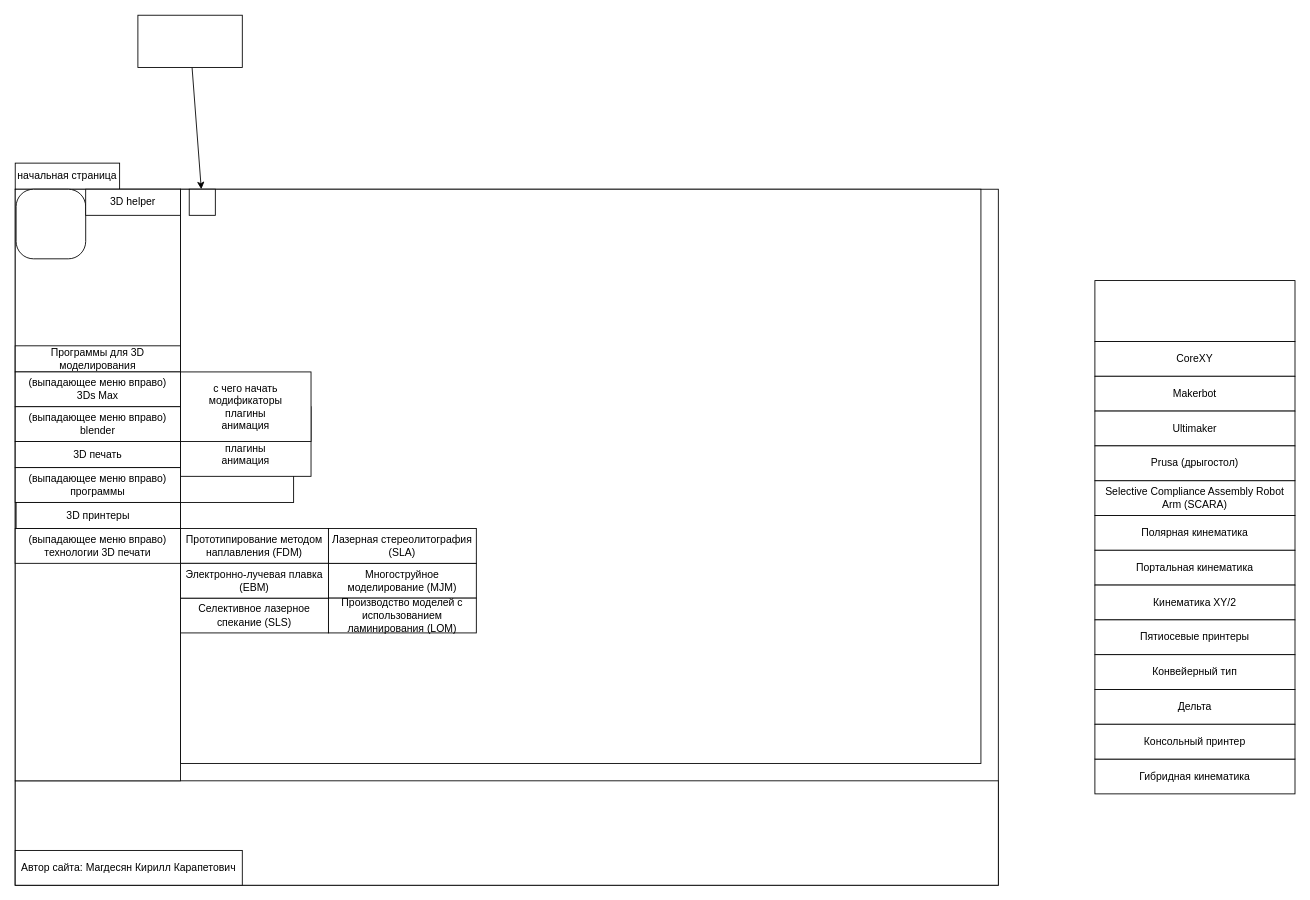
Some shapes in this 1310 by 900 pixel diagram are drawn without their labels. The centre of each missing label's shape, as x and y in pixels:
(иконка): (x=50, y=223)
(кнопка раскрытия sidebar): (x=189, y=40)
cura autodesk prusa slicer: (x=237, y=484)
кинематики: (x=1194, y=310)
